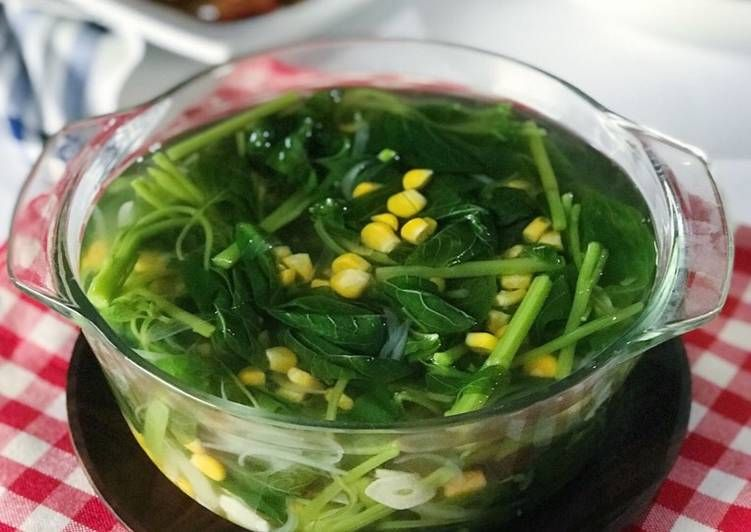Sayur Bayam: (103, 45, 681, 446)
